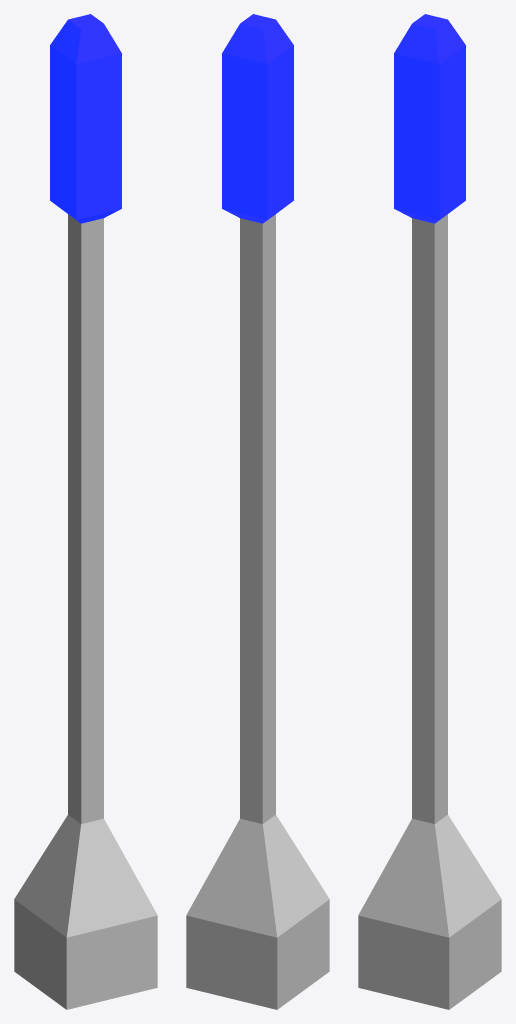
Rendered from l1streetLamp.fbx.
3 renders of one model, left to right at view 1: azimuth 30°, elevation 25°; view 2: azimuth 150°, elevation 25°; view 3: azimuth 330°, elevation 25°, orthographic.
Parts seen in each view (by area): view 1: Plane_LOD0; view 2: Plane_LOD0; view 3: Plane_LOD0.
Boxes of the visible parts, <box> form: Plane_LOD0: <box>14,14,157,1009</box>; Plane_LOD0: <box>186,14,329,1009</box>; Plane_LOD0: <box>358,14,501,1009</box>.
Size of what is drawn, in the model's own units: 1 by 10.05 by 1.
